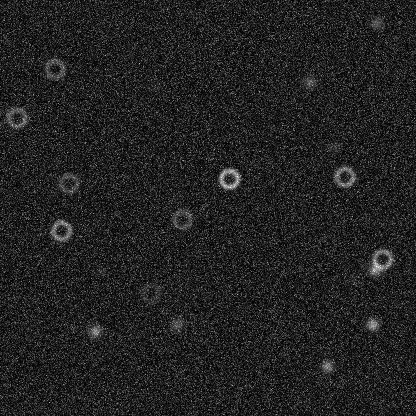Ring: (138, 280, 162, 304), (169, 207, 193, 231), (217, 166, 241, 190), (332, 164, 356, 188), (370, 247, 394, 271), (49, 218, 73, 242), (42, 56, 66, 80), (56, 171, 80, 195), (4, 105, 28, 129)
Spot: (319, 358, 335, 374), (92, 263, 108, 279), (87, 323, 103, 339), (325, 139, 341, 155), (368, 15, 384, 31), (344, 270, 360, 286), (301, 74, 317, 90), (364, 316, 380, 332), (169, 316, 185, 332), (366, 261, 382, 277), (147, 79, 163, 95)
